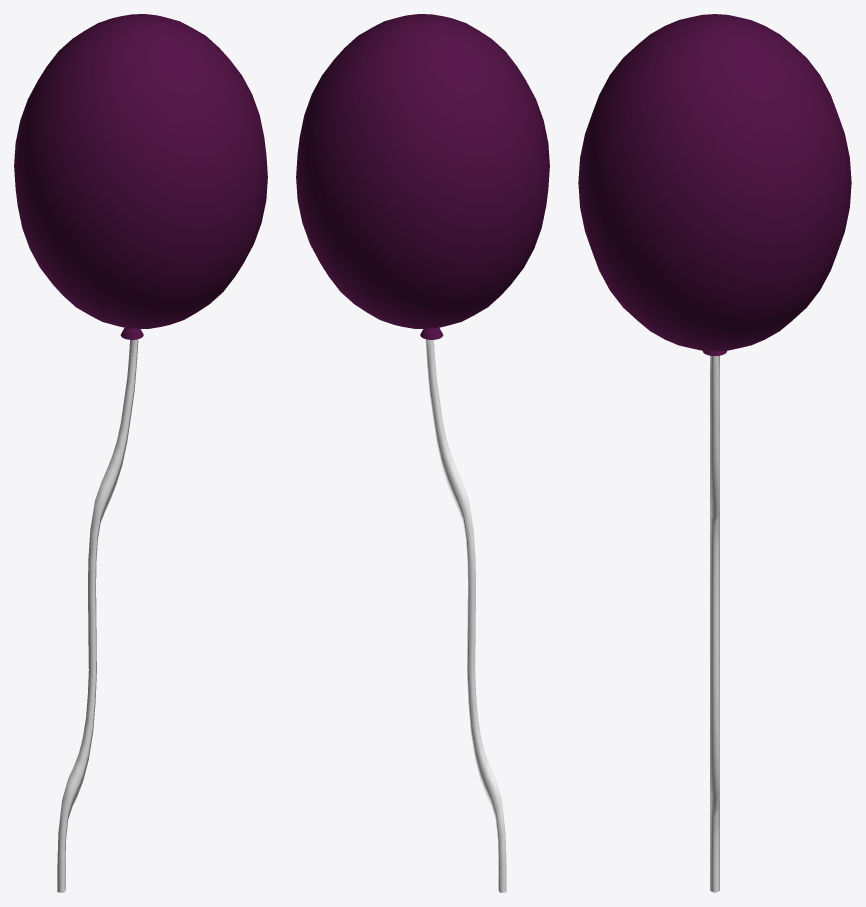
Rendered from PinkBalloonAsOBJExp.obj.
The picture shows the model from 3 angles, left to right: view 1: azimuth 30°, elevation 25°; view 2: azimuth 150°, elevation 25°; view 3: azimuth 270°, elevation 25°; orthographic projection. The views are drawn at different scales.
Visible parts, largest first — view 1: pSphere1, extrudedSurface1; view 2: pSphere1, extrudedSurface1; view 3: pSphere1, extrudedSurface1.
Part boxes in pixels (x1,y1,x2,y2): pSphere1: [14, 14, 267, 328]; extrudedSurface1: [57, 339, 138, 892]; pSphere1: [296, 14, 549, 328]; extrudedSurface1: [425, 339, 506, 892]; pSphere1: [578, 14, 851, 351]; extrudedSurface1: [710, 355, 719, 892].
Size of the model in its own units: 2 by 7.34 by 2.
